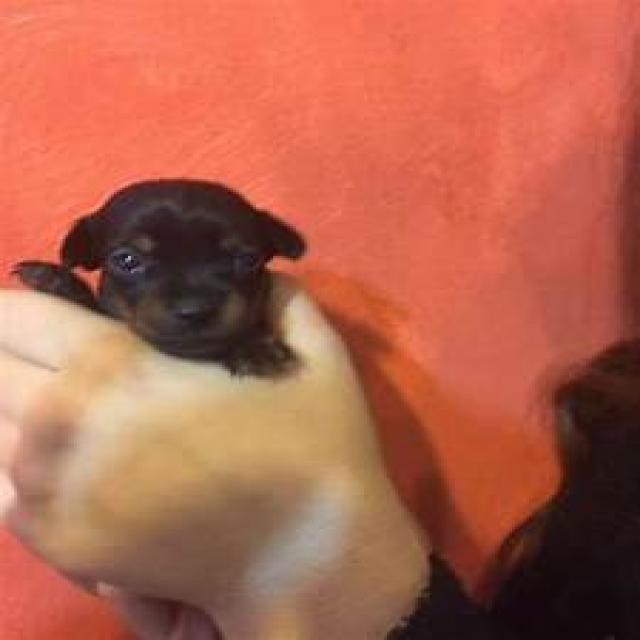dog: (14, 179, 304, 380)
